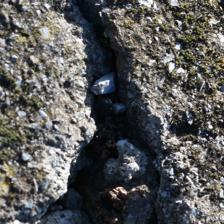Crack: (6, 77, 92, 175), (31, 15, 124, 80), (72, 82, 149, 140)
